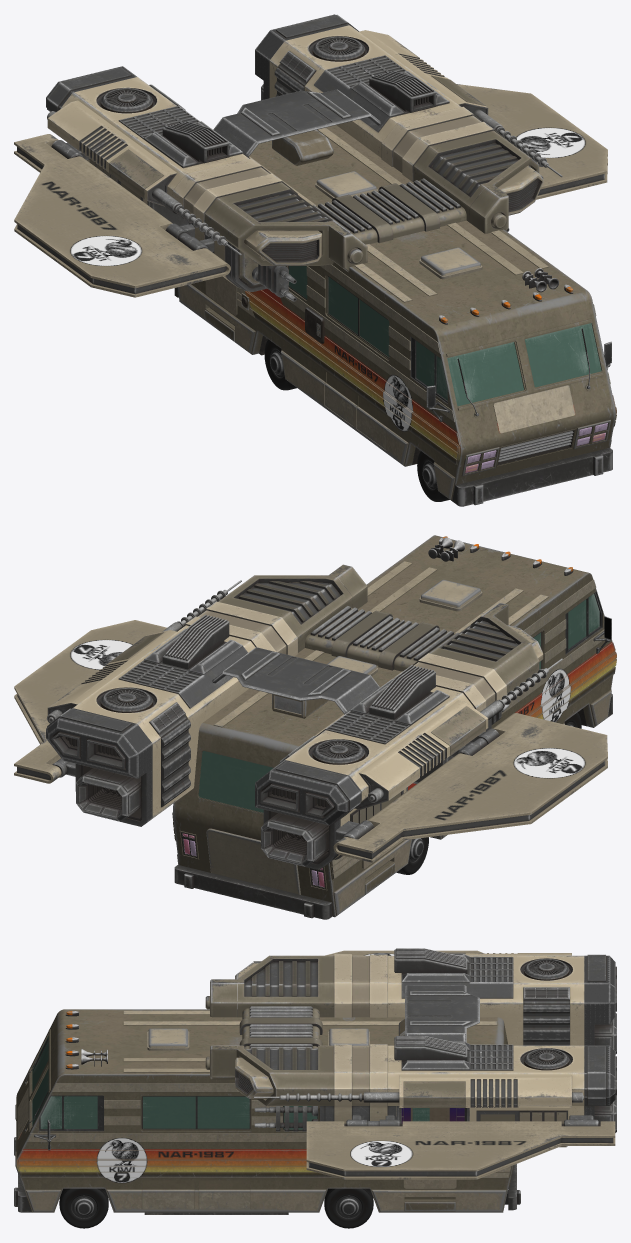
File: space_motorhome_complete_v2w2.obj
3 renders of one model, top to bottom at view 1: azimuth 30°, elevation 25°; view 2: azimuth 150°, elevation 25°; view 3: azimuth 270°, elevation 25°, orthographic. The views are drawn at different scales.
Visible parts, largest first — view 1: space_pack_fromPaint, body, windows, accessories, wheel_tire_suspension, headlight_lens; view 2: space_pack_fromPaint, body, windows, accessories, wheel_tire_suspension; view 3: space_pack_fromPaint, body, windows, wheel_tire_suspension, accessories, underneath.
Part boxes in pixels (x1,y1,x2,y2): space_pack_fromPaint: [14, 14, 607, 301]; body: [174, 125, 616, 506]; windows: [289, 266, 601, 406]; accessories: [241, 130, 611, 421]; wheel_tire_suspension: [264, 339, 449, 501]; headlight_lens: [465, 423, 607, 473]; space_pack_fromPaint: [14, 564, 607, 869]; body: [172, 535, 616, 919]; windows: [198, 594, 599, 812]; accessories: [272, 536, 611, 718]; wheel_tire_suspension: [396, 712, 581, 874]; space_pack_fromPaint: [205, 948, 616, 1179]; body: [14, 1009, 520, 1212]; windows: [32, 1036, 429, 1129]; wheel_tire_suspension: [59, 1188, 373, 1228]; accessories: [24, 1011, 404, 1150]; underneath: [105, 1189, 288, 1214].
Bounding box in the file's own units: 4.95 × 2.15 × 5.76.
